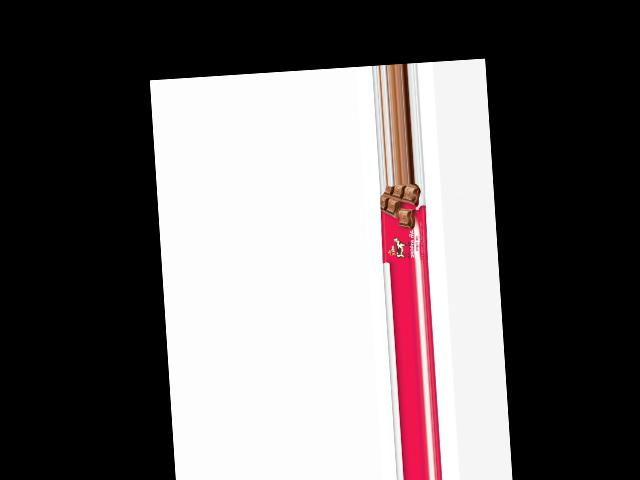chocolate: (378, 184, 428, 264)
